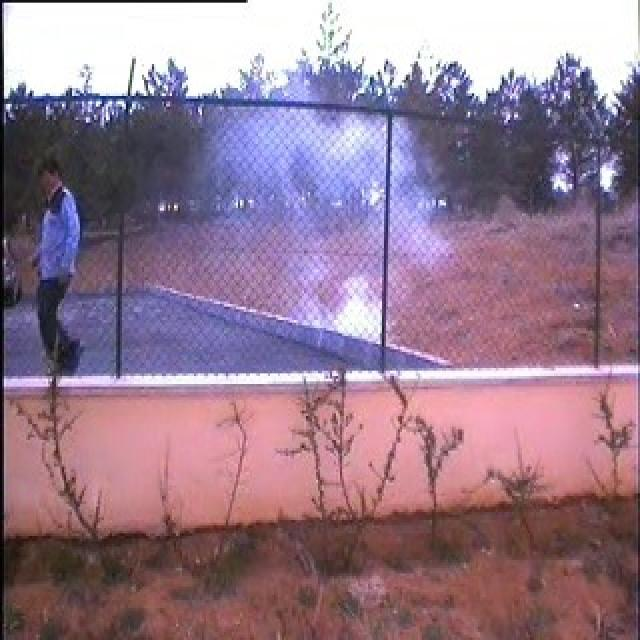Smoke: (210, 83, 450, 343)
